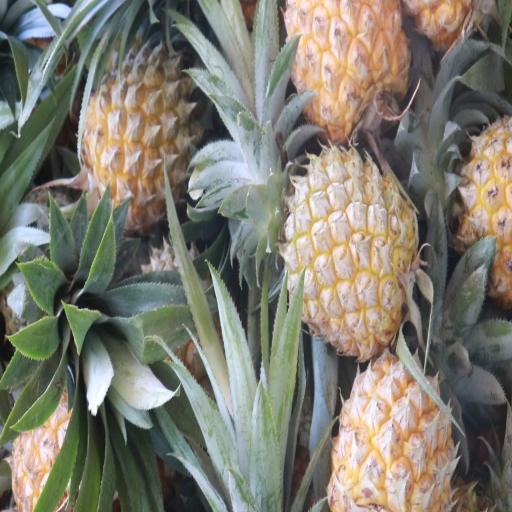------------------------------: (82, 46, 204, 238)
Pineapple - v8 v1: (288, 150, 420, 357), (331, 335, 454, 512), (288, 0, 410, 142)
